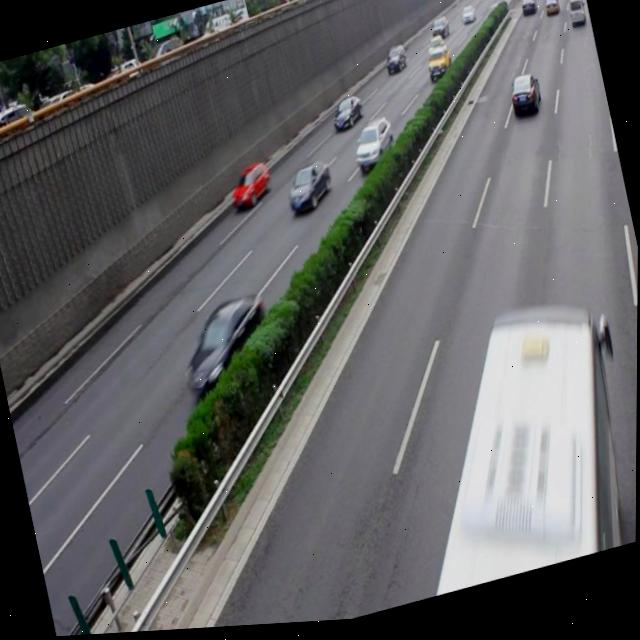car: (171, 293, 279, 402), (282, 161, 335, 220), (346, 119, 398, 177), (225, 159, 274, 214), (505, 76, 543, 125)
van: (370, 292, 638, 607)
